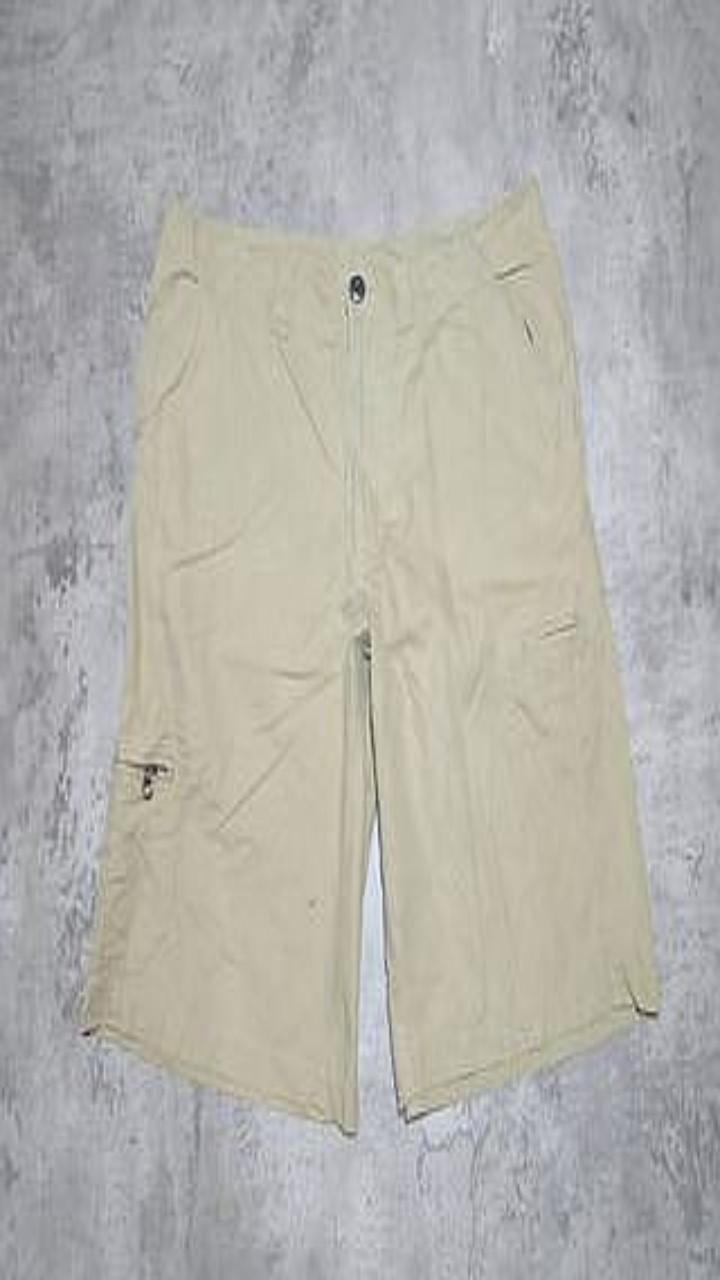Shorts: (82, 174, 659, 1134)
